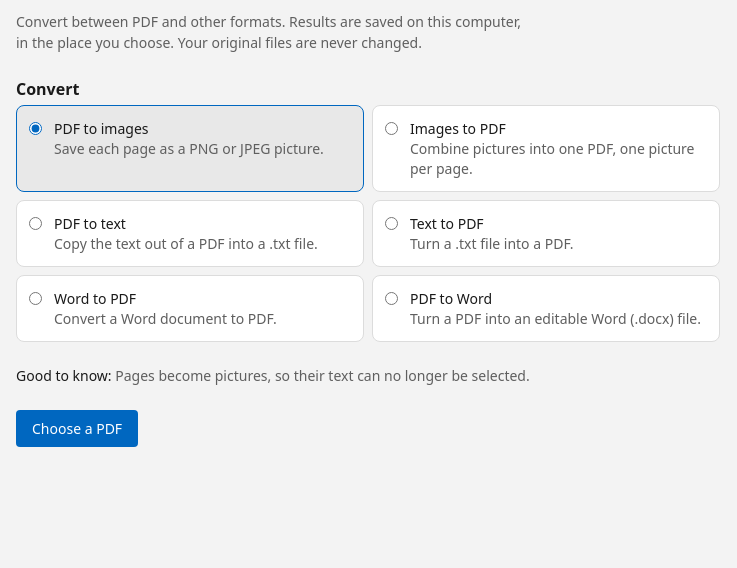
it: Convert page › mentions Microsoft Word for exact layout when it is found
What coordinates should you click on to do the following:
click the radio button labelled "Word to PDF Convert a Word document to PDF."
I would click on:
 (36, 298)
Its box is left=29, top=292, right=42, bottom=305.
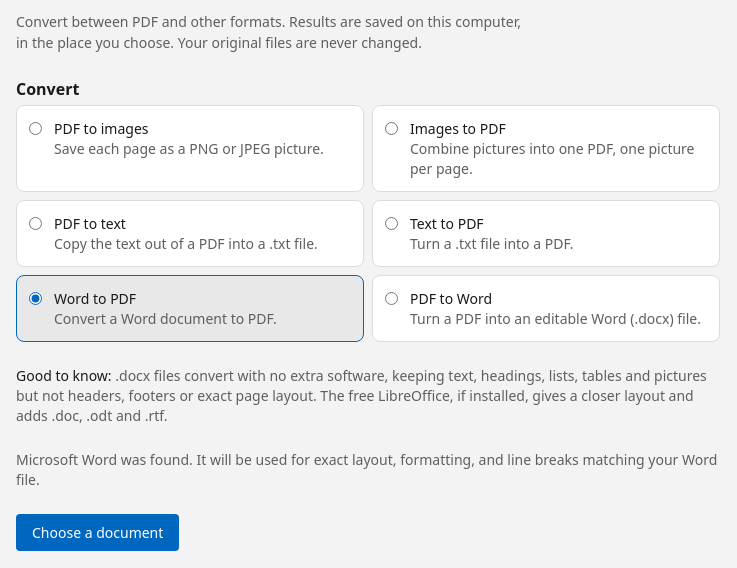
Result: the text "Microsoft Word was found" is shown at left=16, top=450, right=717, bottom=489
